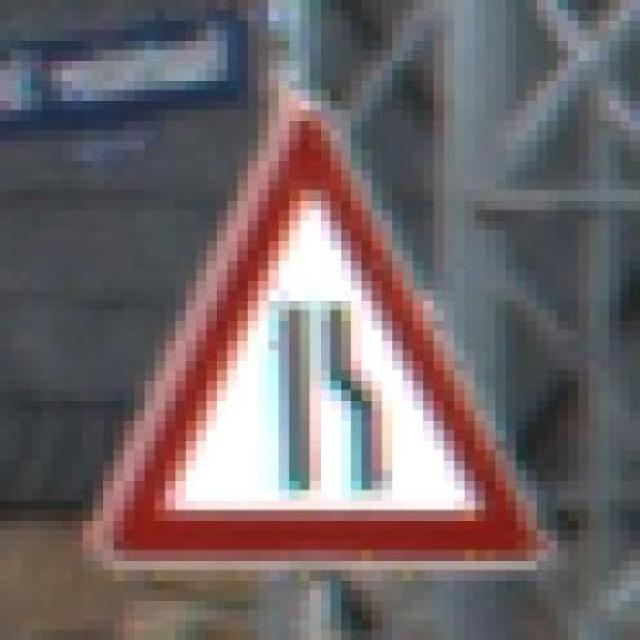-Road narrows on right: (72, 80, 568, 580)
